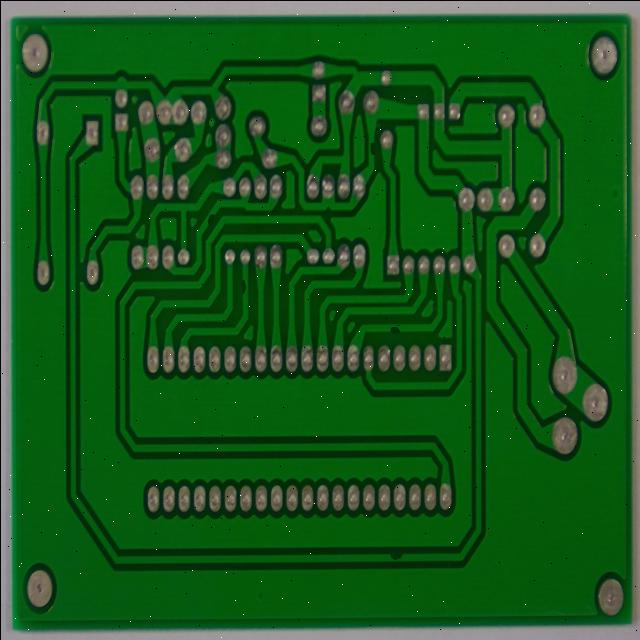mouse_bite: (212, 314, 226, 345), (370, 367, 390, 388), (349, 155, 362, 187), (174, 240, 192, 263), (369, 628, 395, 639)
